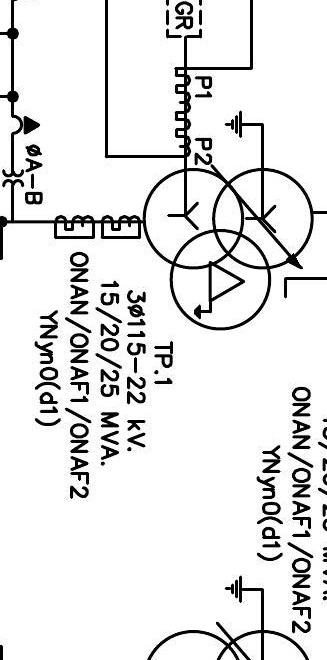11522_tx_ynyn0d1: (141, 167, 315, 332)
